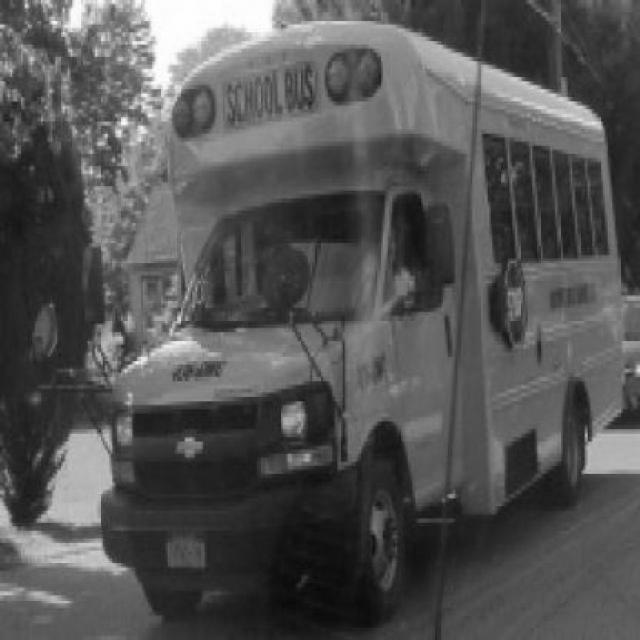Bus- Small: (29, 19, 633, 627)
